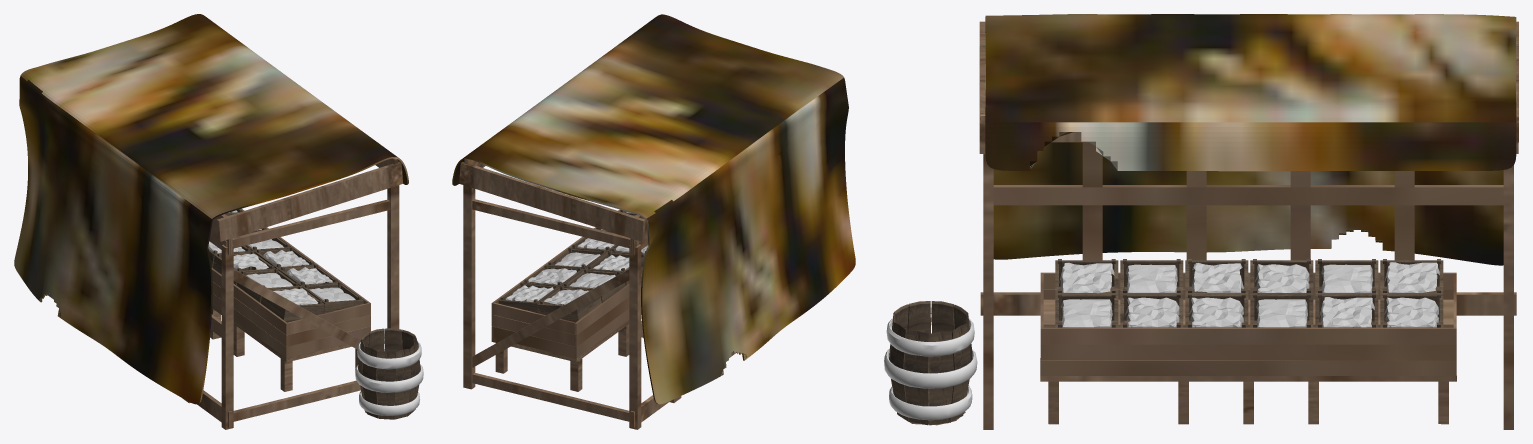
Rendered from Stalls.fbx.
3 views of the same model, side by side, from view 1: azimuth 30°, elevation 25°; view 2: azimuth 150°, elevation 25°; view 3: azimuth 270°, elevation 25° (orthographic). The views are drawn at different scales.
Visible parts, largest first — view 1: Stall, Food, Barrel_2; view 2: Stall, Food; view 3: Stall, Food, Barrel_2.
Part boxes in pixels (x1=…): Stall: x1=14, y1=14, x2=408, y2=429; Food: x1=208, y1=208, x2=370, y2=391; Barrel_2: x1=355, y1=328, x2=423, y2=419; Stall: x1=452, y1=14, x2=855, y2=429; Food: x1=491, y1=209, x2=648, y2=391; Stall: x1=979, y1=14, x2=1518, y2=429; Food: x1=1040, y1=259, x2=1456, y2=424; Barrel_2: x1=884, y1=301, x2=977, y2=425.
Bounding box in the file's own units: 273 × 268 × 488.
